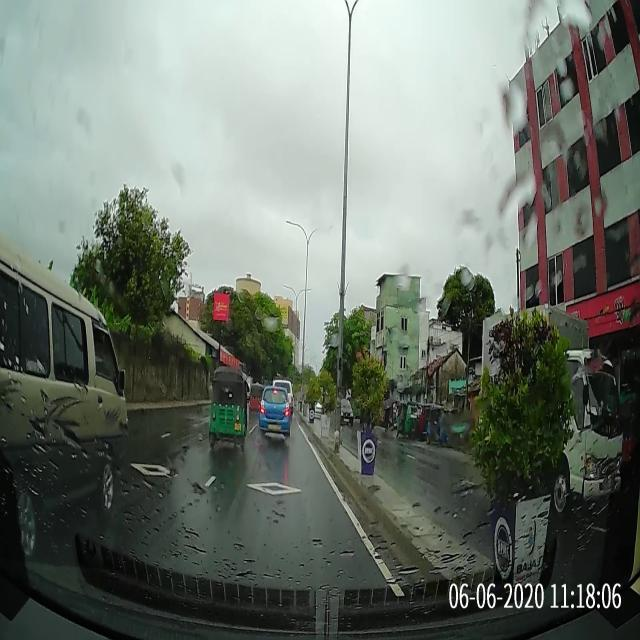diamond: (197, 473, 349, 506)
